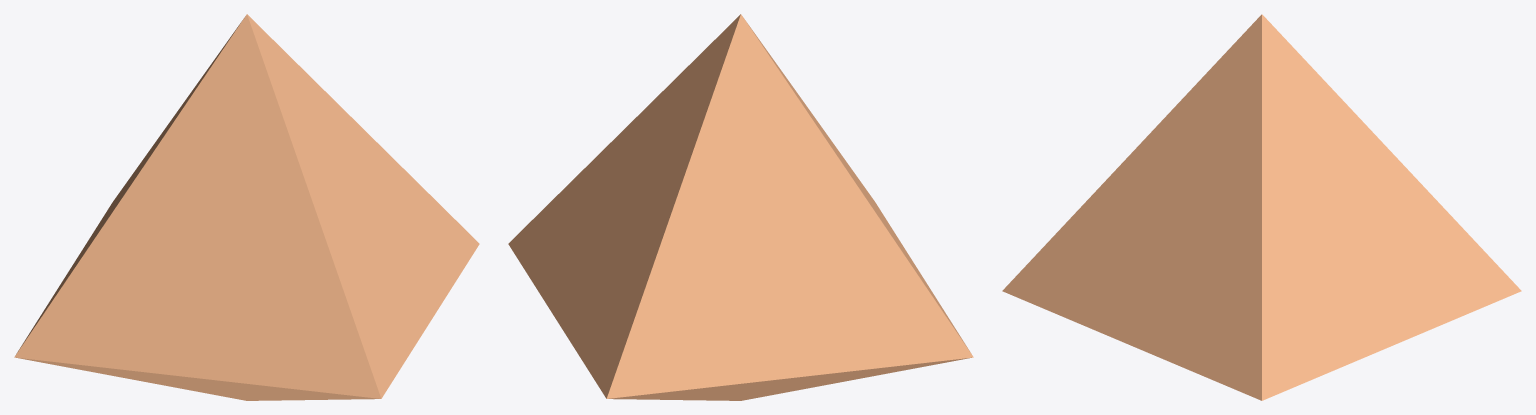
The model's file is sibur.gltf.
3 views of the same model, side by side, from view 1: azimuth 30°, elevation 25°; view 2: azimuth 150°, elevation 25°; view 3: azimuth 270°, elevation 25° (orthographic). The views are drawn at different scales.
Parts seen in each view (by area): view 1: sibur; view 2: sibur; view 3: sibur.
Part boxes in pixels (bbox=[...]): sibur: bbox=[14, 14, 479, 400]; sibur: bbox=[508, 14, 973, 400]; sibur: bbox=[1002, 14, 1521, 400].
Bounding box in the file's own units: 0.34 × 0.27 × 0.34.
